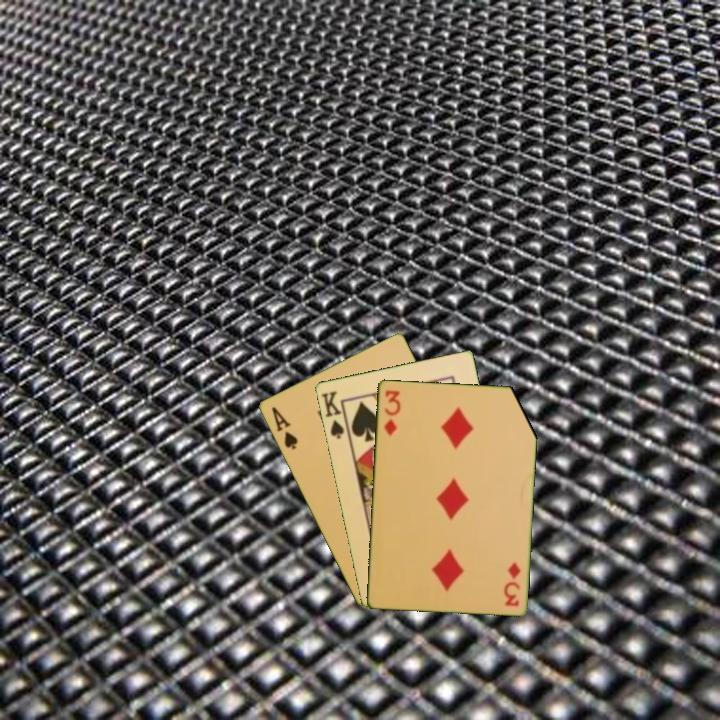3d: (380, 387, 402, 438), (501, 559, 523, 609)
As: (268, 403, 300, 452)
Ks: (317, 387, 347, 442)
